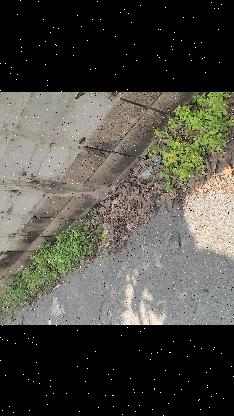Others: (137, 156, 160, 182), (100, 225, 114, 252)
